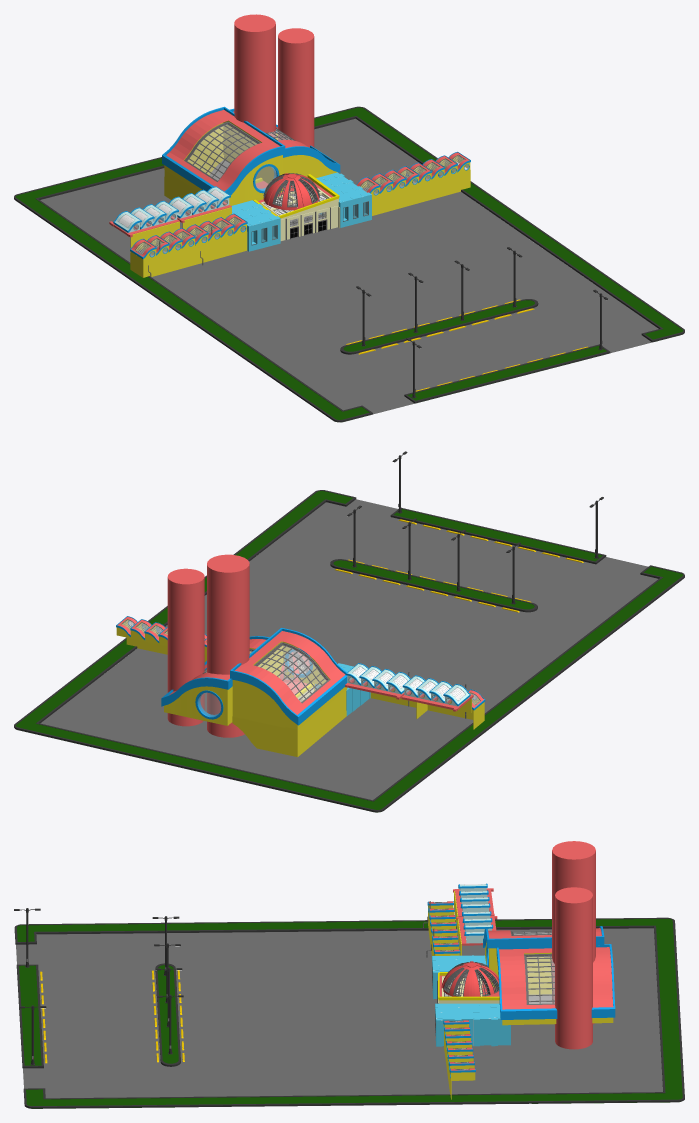
The model's file is poppy_playtime_1_factory_map.glb.
3 renders of one model, top to bottom at view 1: azimuth 30°, elevation 25°; view 2: azimuth 150°, elevation 25°; view 3: azimuth 270°, elevation 25°, orthographic. The views are drawn at different scales.
Visible parts, largest first — view 1: Object_6, Object_31, Object_44, Object_28, Object_42, Object_33, Object_32, Object_47, Object_36, Object_14, Object_23, Object_13 (+3 smaller); view 2: Object_6, Object_31, Object_44, Object_28, Object_42, Object_33, Object_32, Object_14, Object_36, Object_23, Object_45, Object_15 (+3 smaller); view 3: Object_6, Object_44, Object_31, Object_42, Object_33, Object_28, Object_47, Object_32, Object_14, Object_23, Object_36, Object_5 (+4 smaller).
Part boxes in pixels (box(x1,y1,x2,y2)): Object_6: box(40, 118, 658, 414); Object_31: box(109, 14, 469, 256); Object_44: box(15, 107, 683, 422); Object_28: box(130, 120, 470, 277); Object_42: box(14, 106, 684, 422); Object_33: box(130, 106, 470, 259); Object_32: box(135, 124, 468, 256); Object_47: box(222, 172, 371, 251); Object_36: box(184, 121, 374, 239); Object_14: box(114, 187, 229, 232); Object_23: box(356, 247, 608, 398); Object_13: box(261, 187, 340, 240); Object_6: box(40, 499, 657, 800); Object_31: box(117, 554, 483, 737); Object_44: box(16, 491, 682, 812); Object_28: box(116, 619, 484, 756); Object_42: box(14, 490, 684, 812); Object_33: box(116, 616, 485, 725); Object_32: box(122, 620, 479, 716); Object_14: box(347, 664, 469, 706); Object_36: box(202, 642, 329, 703); Object_23: box(347, 451, 603, 604); Object_45: box(335, 519, 583, 612); Object_15: box(352, 666, 465, 700); Object_6: box(16, 928, 662, 1098); Object_44: box(17, 919, 682, 1108); Object_31: box(428, 841, 613, 1070); Object_42: box(14, 917, 684, 1108); Object_33: box(427, 897, 615, 1077); Object_28: box(428, 891, 613, 1099); Object_47: box(432, 955, 510, 1046); Object_32: box(435, 902, 554, 1069); Object_14: box(459, 884, 491, 943); Object_23: box(14, 908, 183, 1065); Object_36: box(432, 931, 554, 1021); Object_5: box(441, 961, 498, 996).
Size of what is drawn, in the model's own units: 406 by 180 by 607.
